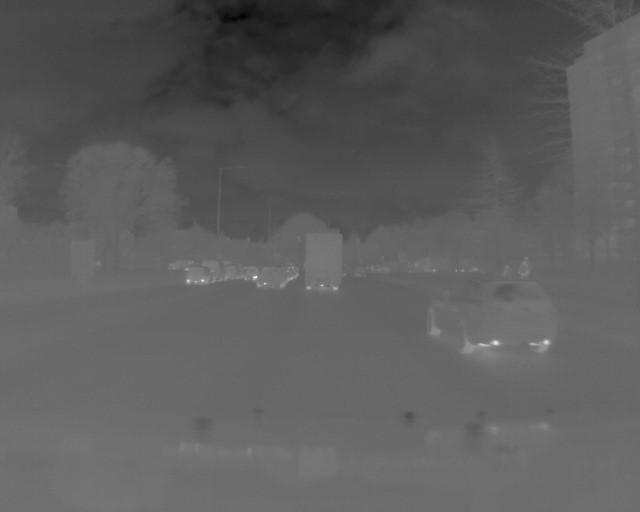car: (423, 276, 560, 356), (303, 230, 347, 293), (254, 264, 287, 290), (181, 265, 214, 288)
